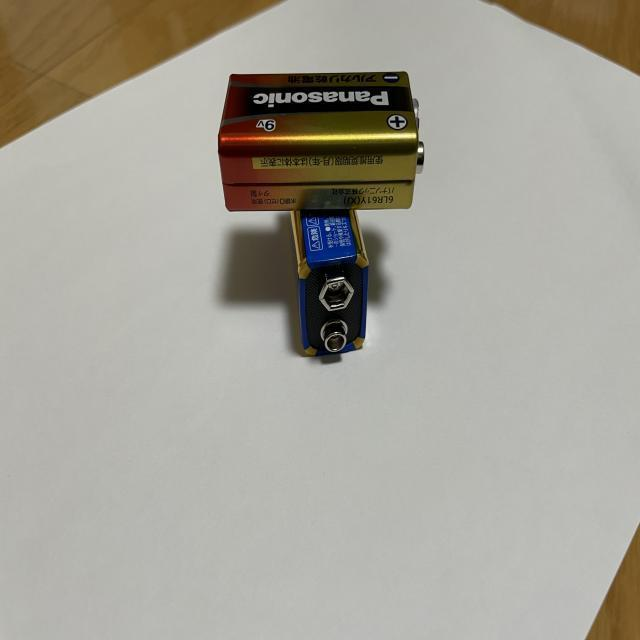9V: (218, 72, 426, 211), (289, 209, 370, 359)
